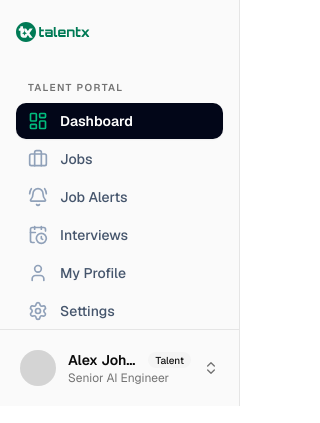
AppSidebar Component › Bottom Profile Card and Sign Out › opens user menu popover on click and closes on Escape
Check: the menu item "sign out" is not shown
Click the button with aria-label "user account menu". click: (120, 368)
box: x1=12 y1=342 x2=227 y2=394
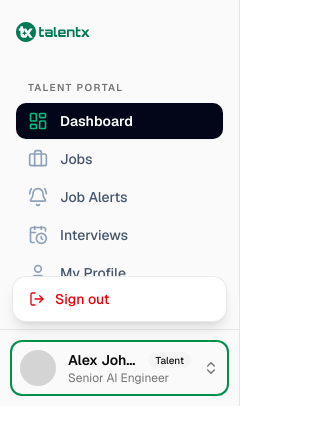
Check: the menu item "Sign out" is shown, box x1=17 y1=281 x2=222 y2=317
Press Escape
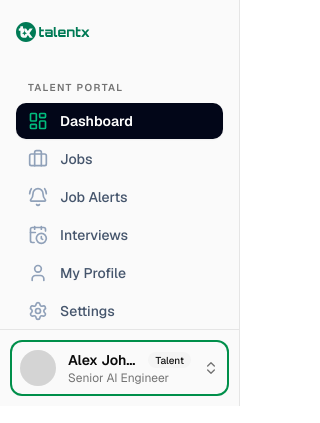
Check: the menu item "Sign out" is gone
